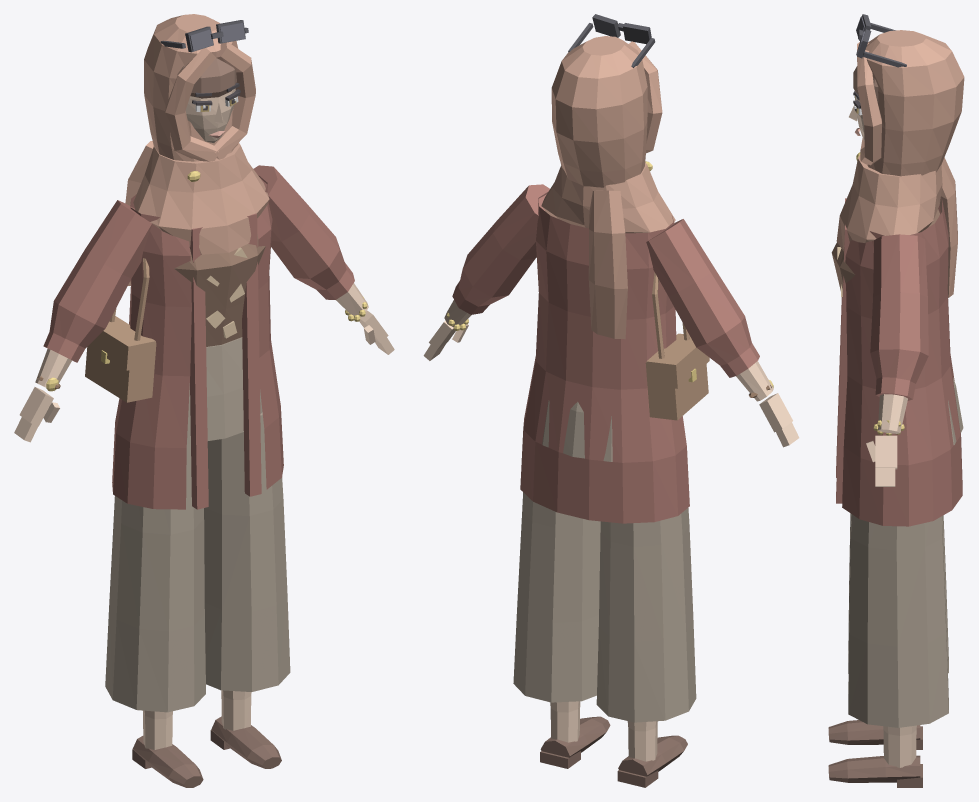
The model's file is cardigan_hijab.glb.
The picture shows the model from 3 angles, left to right: view 1: azimuth 30°, elevation 25°; view 2: azimuth 150°, elevation 25°; view 3: azimuth 270°, elevation 25°; orthographic projection.
Parts seen in each view (by area): view 1: Outfit_Cardigan, Outfit_Culottes, Hijab, Accessories, Limbs, Outfit_Batik_Blouse, Footwear_Loafers, Head; view 2: Outfit_Cardigan, Outfit_Culottes, Hijab, Accessories, Limbs, Footwear_Loafers; view 3: Outfit_Cardigan, Hijab, Outfit_Culottes, Footwear_Loafers, Limbs, Accessories, Outfit_Batik_Blouse, Head.
Boxes of the visible parts, <box> form: Outfit_Cardigan: <box>43,165,354,509</box>; Outfit_Culottes: <box>105,337,290,712</box>; Hijab: <box>125,14,269,285</box>; Accessories: <box>37,20,367,402</box>; Limbs: <box>14,283,394,749</box>; Outfit_Batik_Blouse: <box>174,234,265,346</box>; Footwear_Loafers: <box>132,716,281,787</box>; Head: <box>185,83,240,142</box>; Outfit_Cardigan: <box>452,184,759,523</box>; Outfit_Culottes: <box>513,400,696,722</box>; Hijab: <box>541,36,675,339</box>; Accessories: <box>446,14,773,420</box>; Limbs: <box>423,300,799,761</box>; Footwear_Loafers: <box>540,716,687,787</box>; Outfit_Cardigan: <box>836,198,962,526</box>; Hijab: <box>836,30,964,297</box>; Outfit_Culottes: <box>848,377,963,727</box>; Footwear_Loafers: <box>828,720,922,787</box>; Limbs: <box>866,394,916,767</box>; Accessories: <box>856,14,906,435</box>; Outfit_Batik_Blouse: <box>831,209,940,297</box>; Head: <box>849,91,864,141</box>.
Bounding box in the file's own units: 0.8975 × 1.72 × 0.2878.
